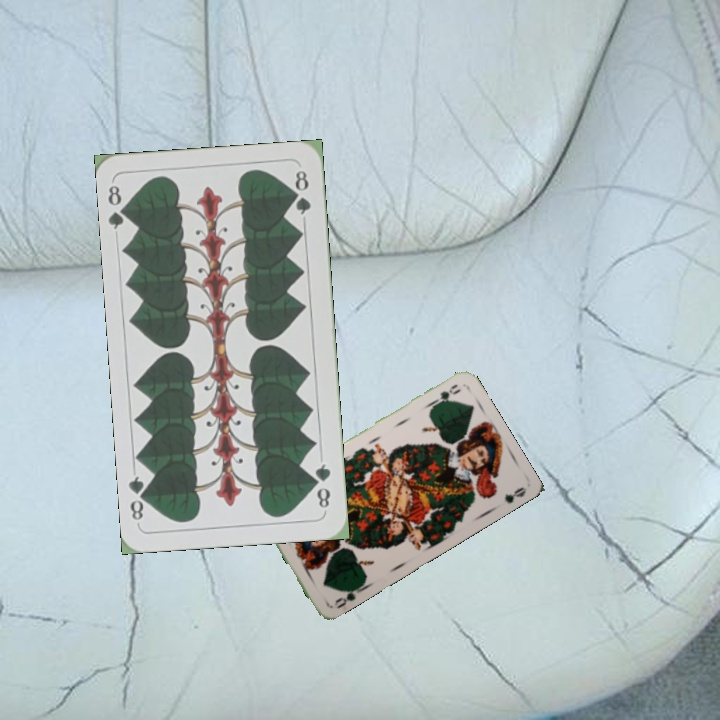G8: (104, 181, 133, 232), (310, 460, 334, 511)
GO: (330, 582, 367, 611), (427, 380, 463, 409)
